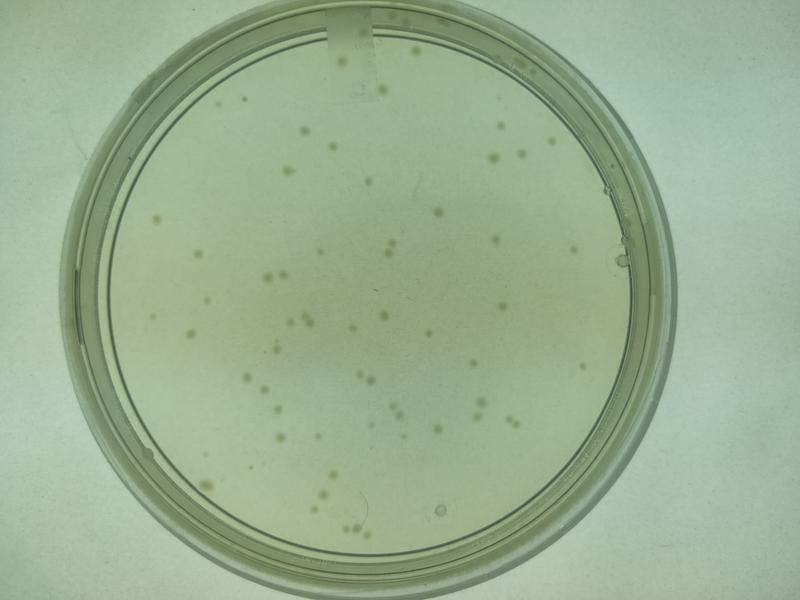colony: (293, 118, 312, 141), (426, 202, 447, 222), (275, 161, 298, 179), (489, 299, 511, 317), (428, 421, 447, 440), (234, 367, 252, 384), (564, 241, 583, 257), (487, 230, 504, 247), (375, 307, 392, 324), (466, 354, 481, 373), (150, 212, 167, 228), (189, 246, 204, 264), (325, 466, 340, 484), (272, 431, 288, 447), (182, 327, 198, 342), (575, 357, 591, 372), (374, 83, 389, 98), (421, 327, 436, 341), (258, 383, 273, 397), (311, 427, 325, 442), (325, 138, 339, 152), (199, 294, 212, 309)
